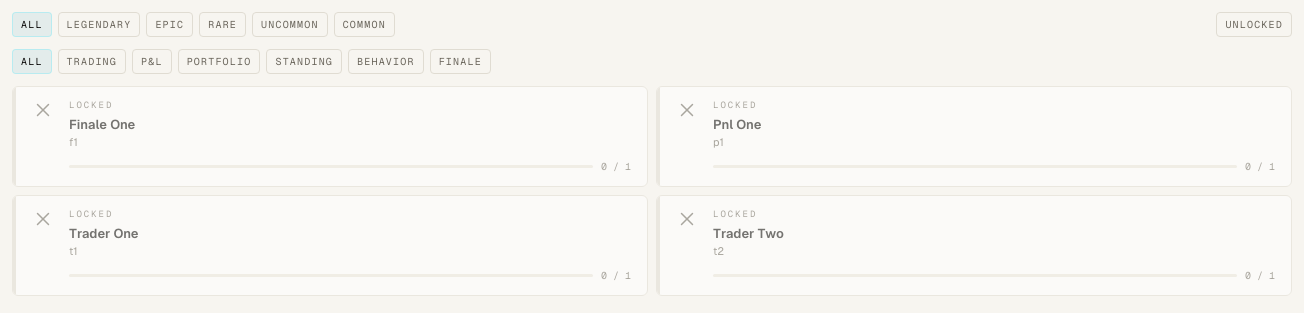
Test: AchievementGrid category filter › supports multi-select across categories
The width and height of the screenshot is (1304, 313).
Click the button "Trading" at (92, 62), box [58, 49, 126, 74]
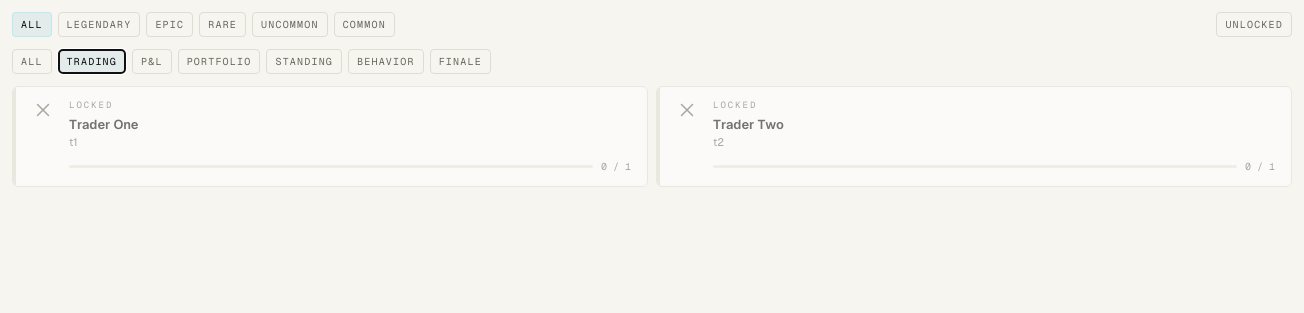
Click the button "P&L" at (152, 62), box [132, 49, 172, 74]
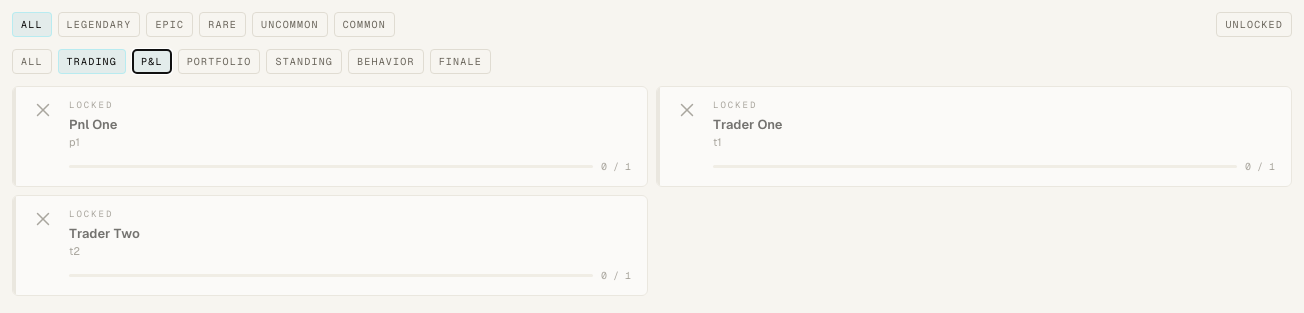
Expected: the text "Trader One" is shown, [713, 116, 783, 132]
Expected: the text "Pnl One" is shown, [69, 116, 118, 132]
